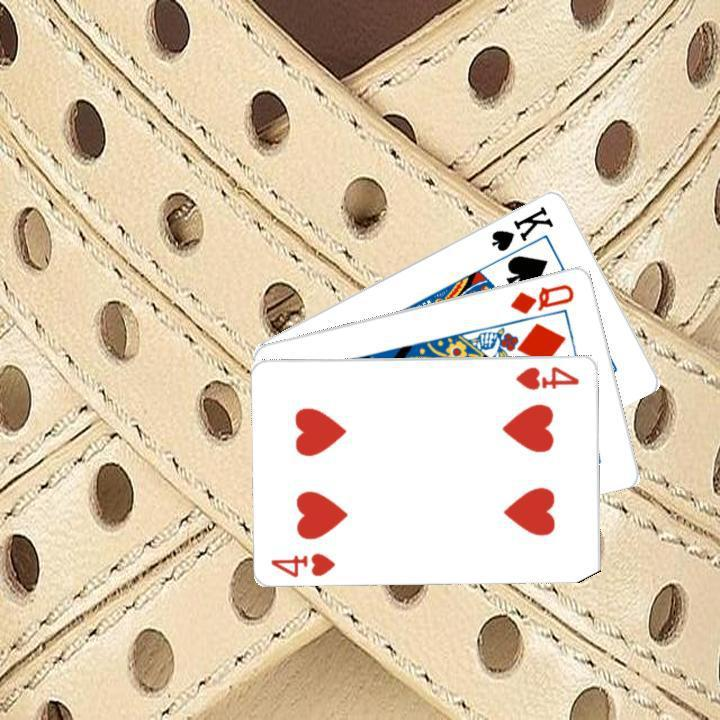4: (267, 548, 337, 579), (512, 361, 581, 392)
K: (486, 201, 556, 253)
Q: (506, 279, 577, 316)
